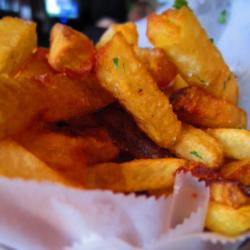fries: (1, 6, 247, 204)
